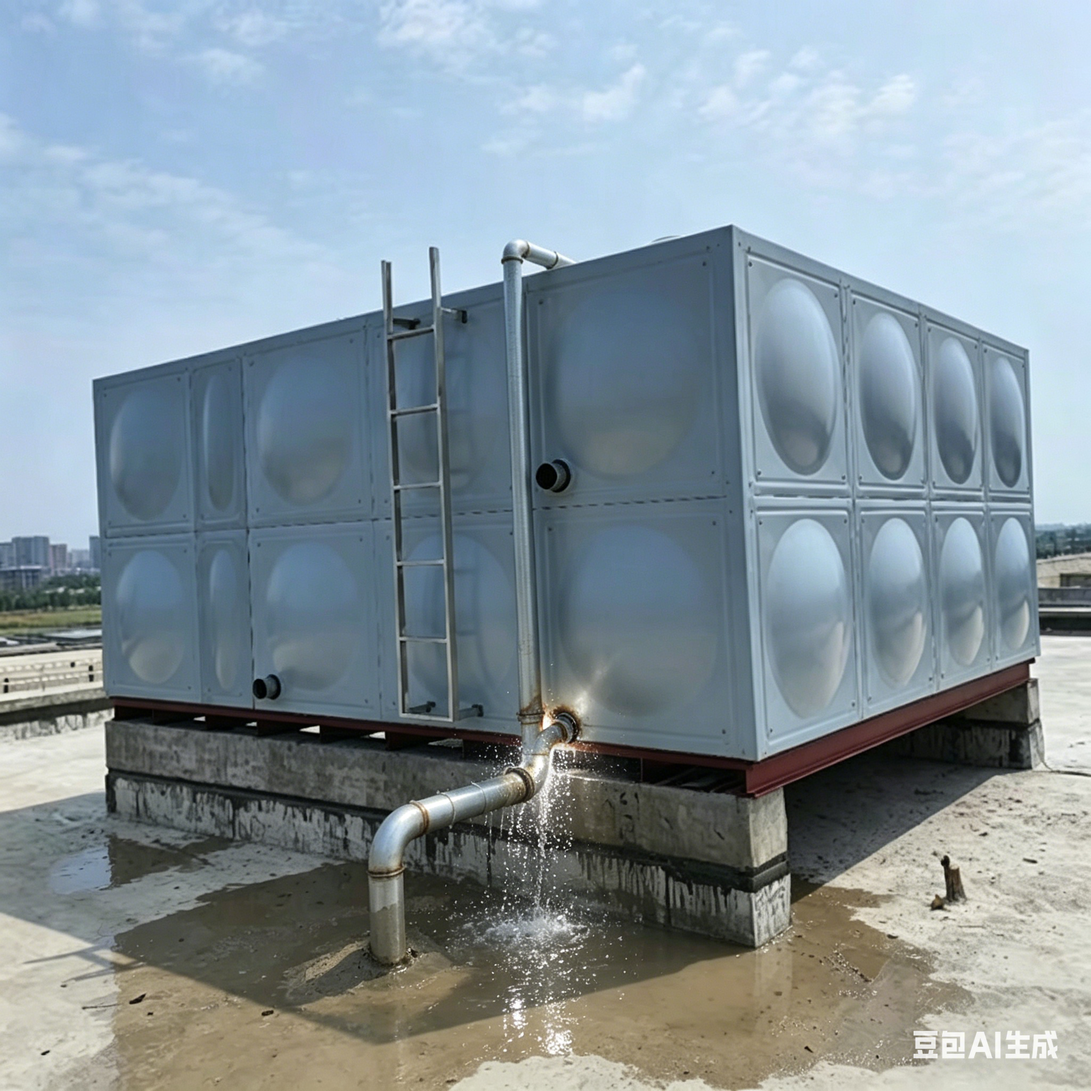Leakage: (124, 917, 489, 1087), (630, 911, 955, 1091), (493, 698, 616, 1057), (255, 864, 493, 913), (42, 830, 193, 890)
